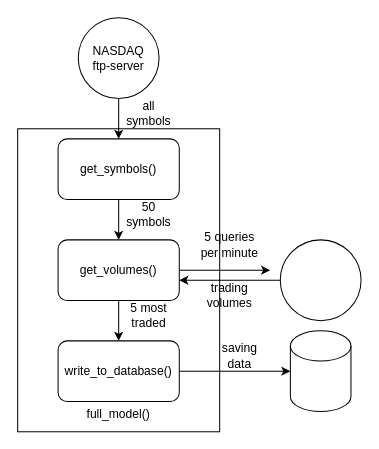
This 379x449 diagram has some shape labels left out. The centre of each missing label's shape, as x and y in pixels:
"Alpha Vantage API" belongs at point 320,280.
"local database" belongs at point 320,371.
